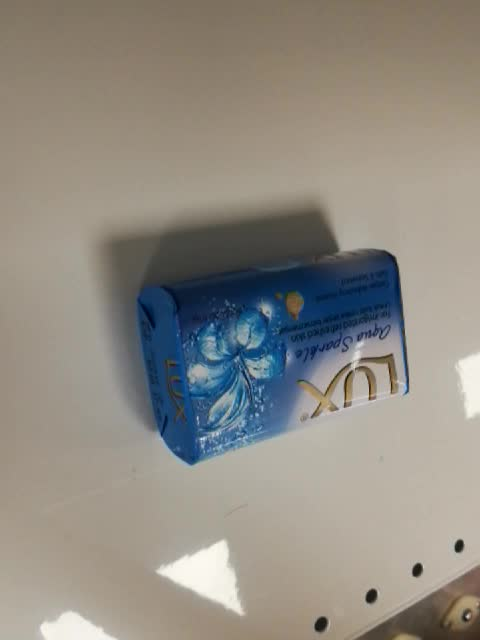soap: (135, 247, 412, 467)
